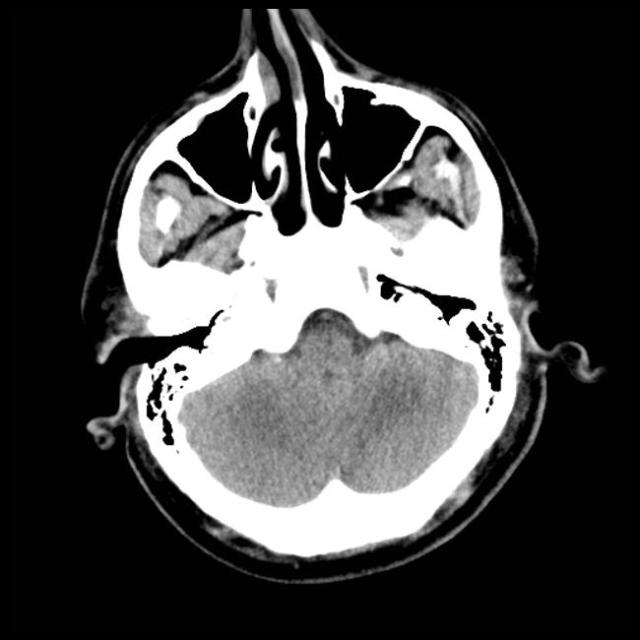lesion: (76, 9, 600, 583)
